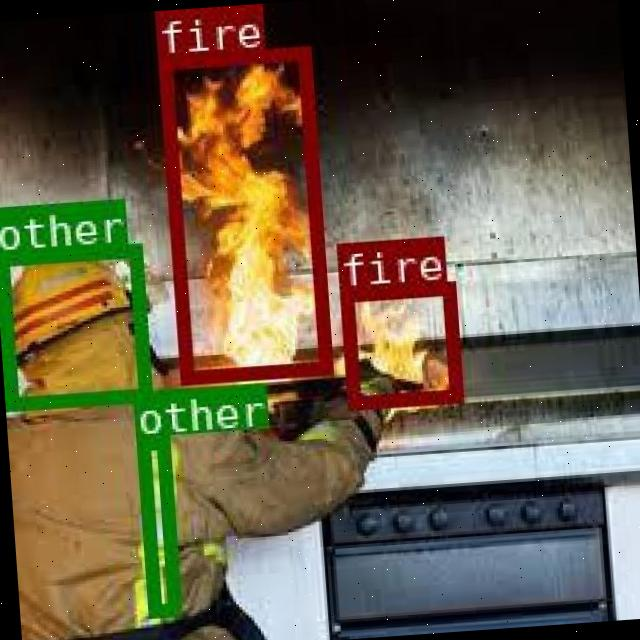fire: (157, 44, 330, 380), (338, 278, 459, 406)
